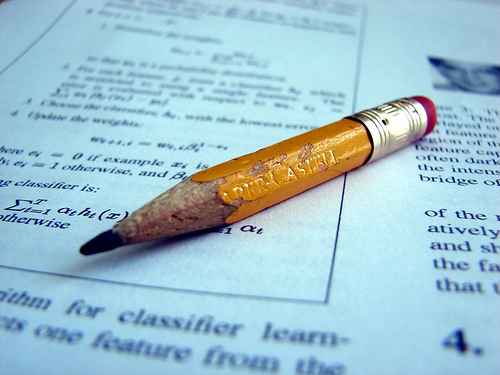pen_tip: (70, 169, 252, 262)
